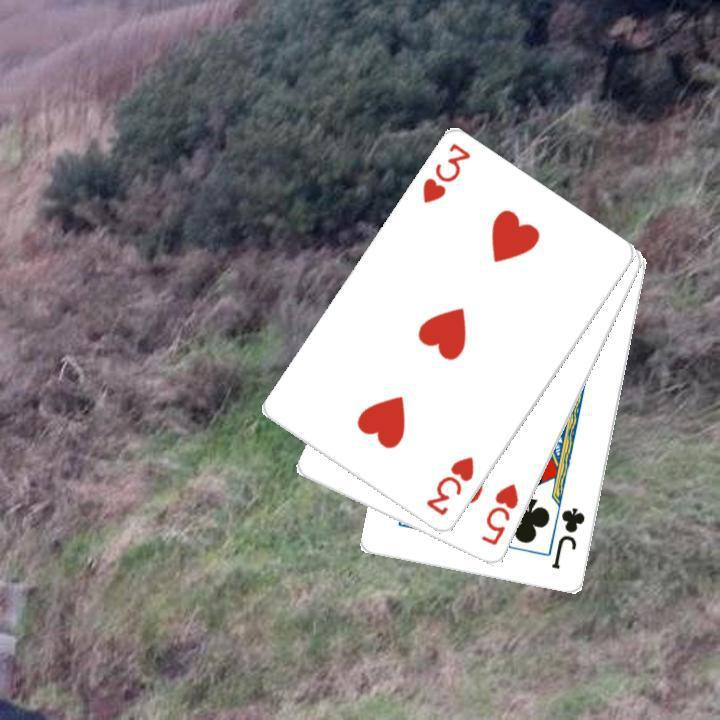3: (418, 139, 473, 207), (421, 452, 477, 518)
5: (476, 479, 521, 548)
J: (548, 504, 588, 572)
